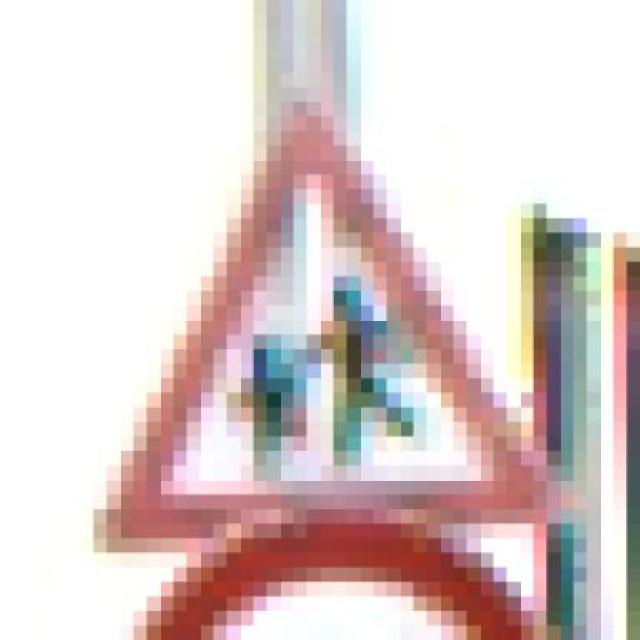Beware of children: (53, 101, 573, 538)
